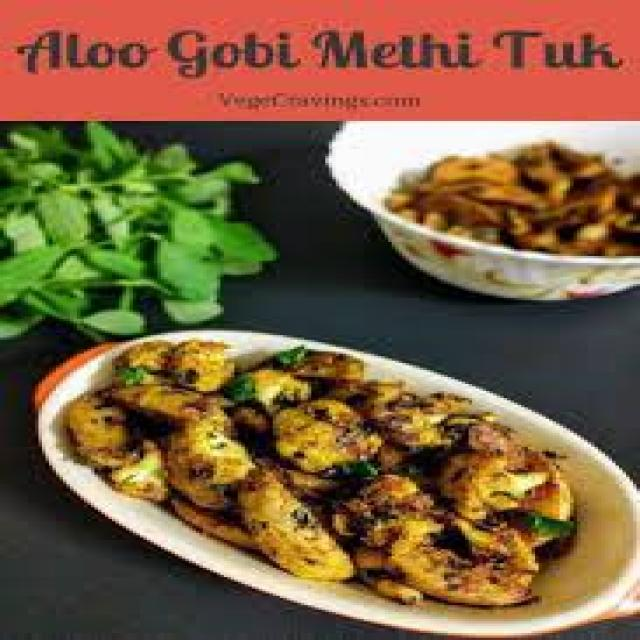Aloo Gobi: (98, 340, 572, 606)
